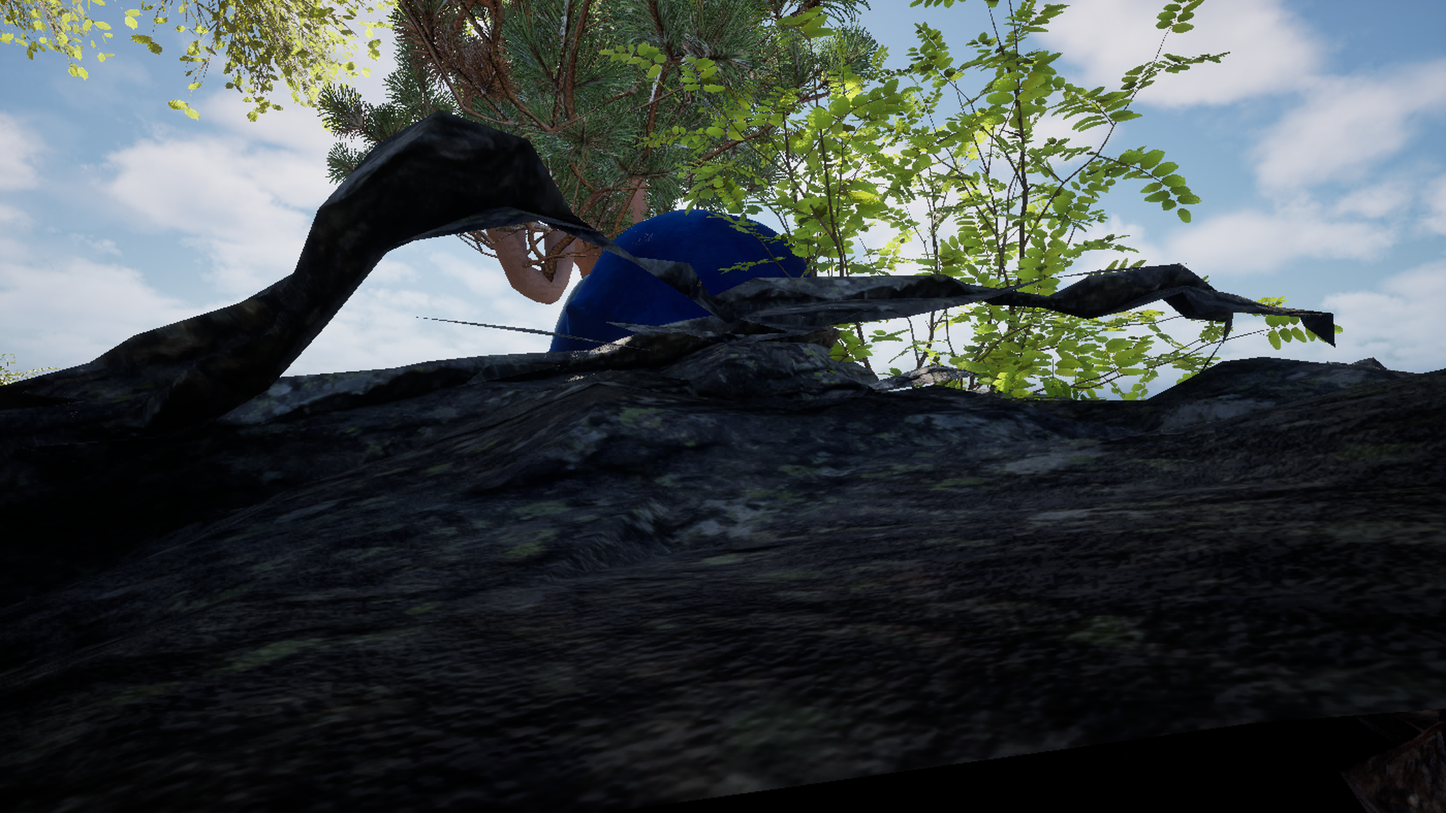Piplup: (279, 89, 1167, 724)
